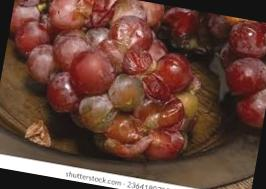Grape Rotten: (0, 0, 266, 180)
